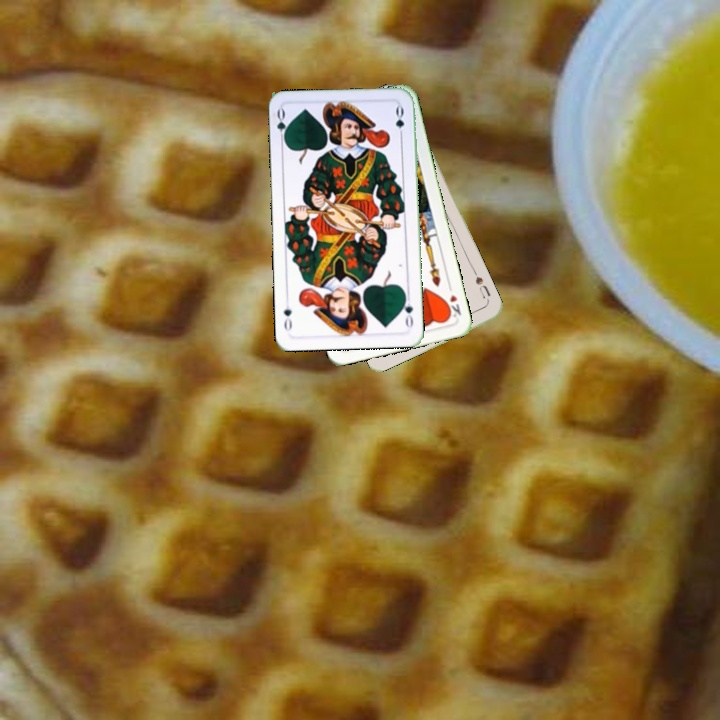GO: (398, 290, 416, 330), (273, 106, 291, 146)
HK: (442, 281, 464, 320)
SU: (470, 267, 493, 301)
